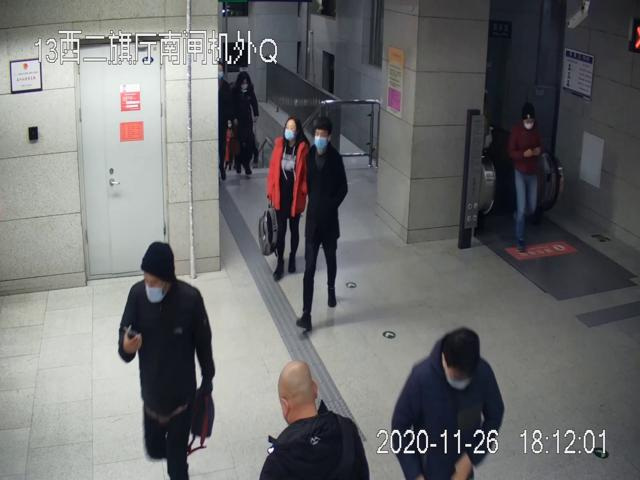person: (118, 241, 216, 480), (295, 113, 349, 330), (268, 114, 309, 279), (508, 102, 543, 251)
